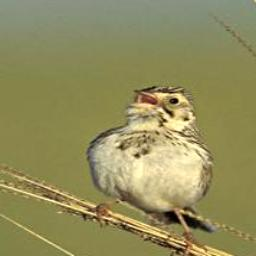Sparrow: (81, 83, 214, 256)
